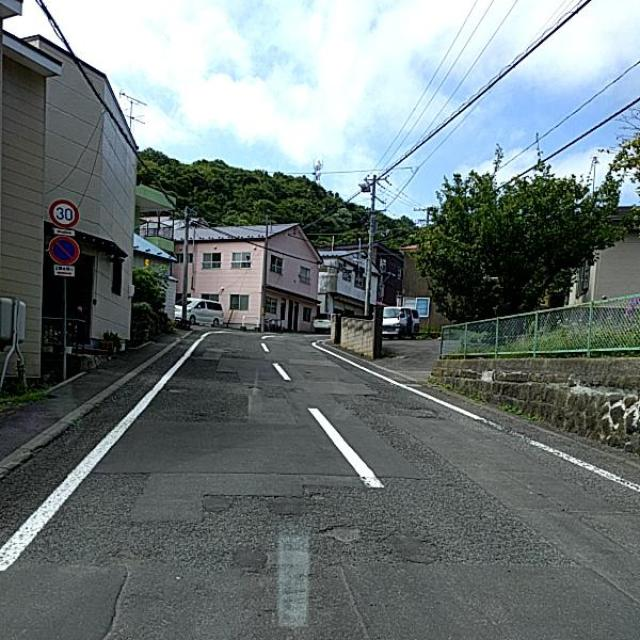Crack: (183, 316, 458, 640)
